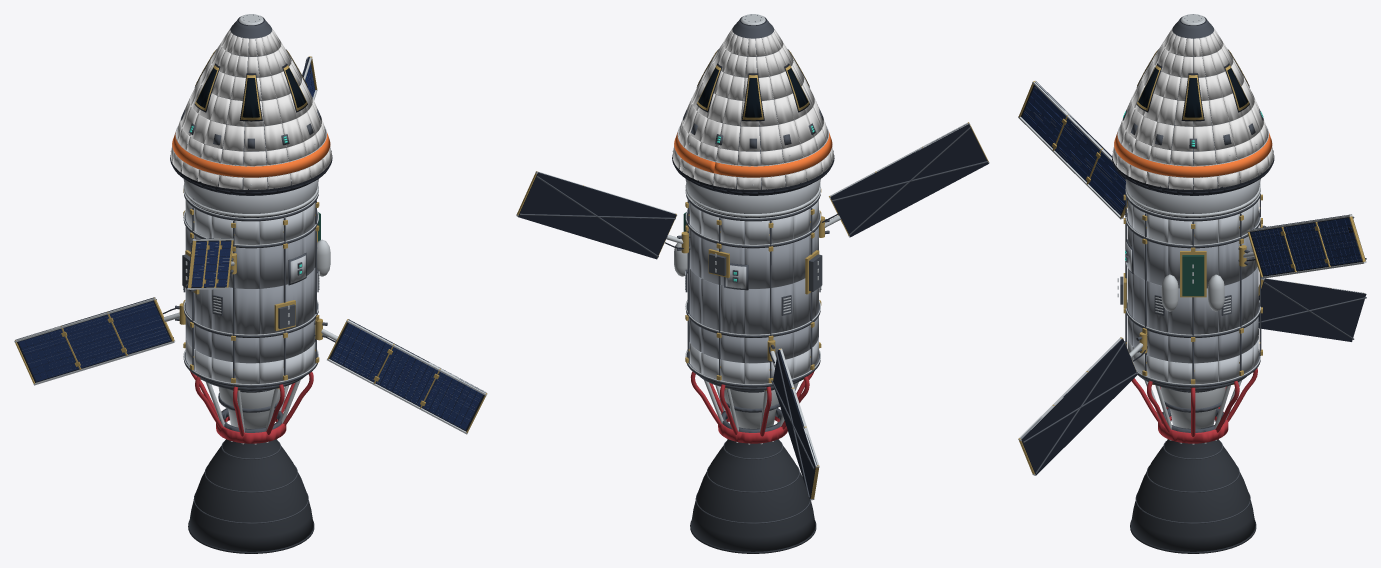
File: spaceship-cm01.glb
The picture shows the model from 3 angles, left to right: view 1: azimuth 30°, elevation 25°; view 2: azimuth 150°, elevation 25°; view 3: azimuth 270°, elevation 25°; orthographic projection.
Parts seen in each view (by area): view 1: CM01_Ship; view 2: CM01_Ship; view 3: CM01_Ship.
Boxes of the visible parts, bbox=[...] form: CM01_Ship: bbox=[14, 14, 487, 553]; CM01_Ship: bbox=[516, 14, 989, 553]; CM01_Ship: bbox=[1018, 14, 1366, 553].
Bounding box in the file's own units: 7.57 × 12.14 × 7.54.
